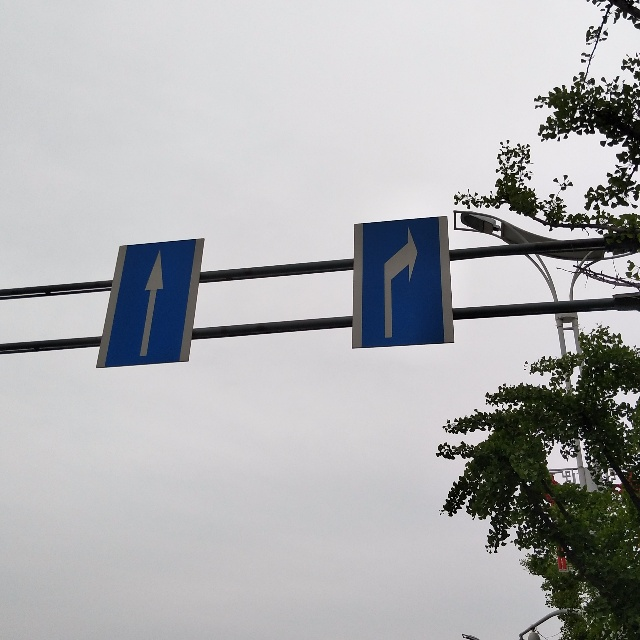right: (367, 223, 436, 351)
straight: (123, 247, 178, 359)
